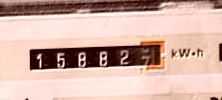1: (34, 52, 44, 69)
2: (118, 48, 129, 66)
5: (55, 52, 66, 68)
7: (141, 55, 150, 66)
8: (97, 50, 108, 67), (76, 52, 87, 68)
screen: (22, 36, 171, 80)
